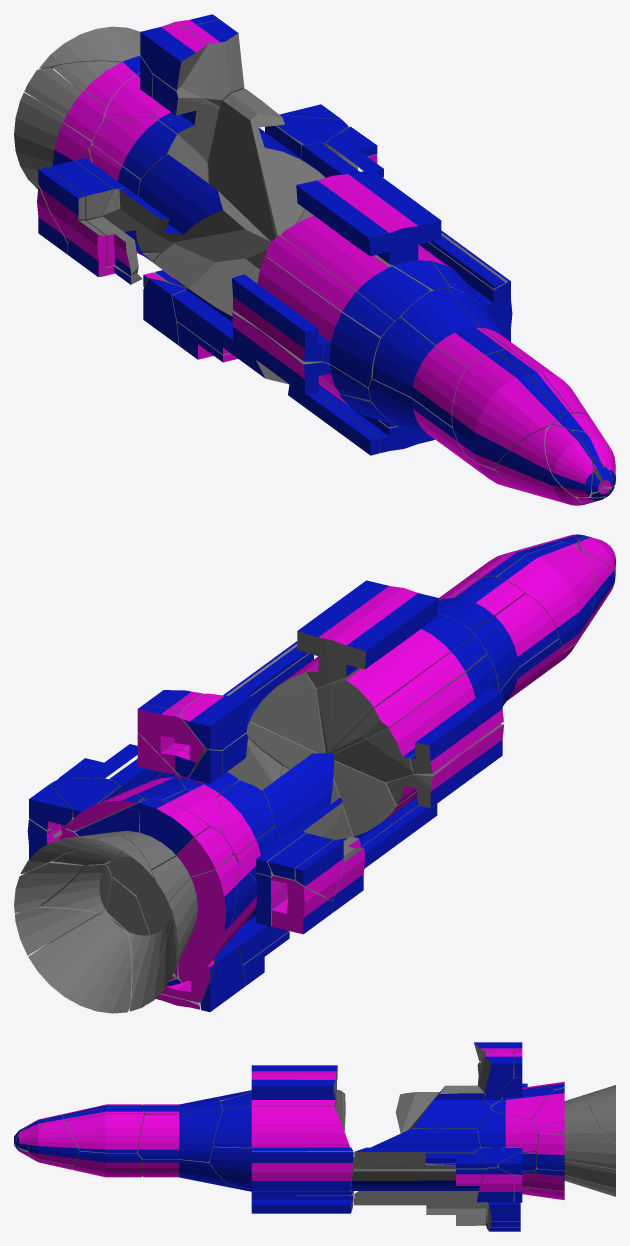
File: Rocket3Broken.fbx
3 renders of one model, top to bottom at view 1: azimuth 30°, elevation 25°; view 2: azimuth 150°, elevation 25°; view 3: azimuth 270°, elevation 25°, orthographic. The views are drawn at different scales.
Parts seen in each view (by area): view 1: Cylinder.002_cell.092, Cylinder.002_cell.008, Cylinder.002_cell.053, Cylinder.002_cell.073, Cylinder.002_cell.013, Cylinder.002_cell.074, Cylinder.002_cell.071, Cylinder.002_cell.042, Cylinder.002_cell.016, Cylinder.002_cell.037, Cylinder.002_cell.033, Cylinder.002_cell.043 (+34 smaller); view 2: Cylinder.002_cell.008, Cylinder.002_cell.012, Cylinder.002_cell.074, Cylinder.002_cell.037, Cylinder.002_cell.042, Cylinder.002_cell.073, Cylinder.002_cell.053, Cylinder.002_cell.071, Cylinder.002_cell.054, Cylinder.002_cell.025, Cylinder.002_cell.019, Cylinder.002_cell.043 (+46 smaller); view 3: Cylinder.002_cell.045, Cylinder.002_cell.025, Cylinder.002_cell.008, Cylinder.002_cell.052, Cylinder.002_cell.049, Cylinder.002_cell.003, Cylinder.002_cell.035, Cylinder.002_cell.092, Cylinder.002_cell.013, Cylinder.002_cell.001, Cylinder.002_cell.063, Cylinder.002_cell.087 (+28 smaller).
Boxes of the visible parts, x1,y1,x2,y2 form: Cylinder.002_cell.092: (208,88,324,241); Cylinder.002_cell.008: (296,170,449,290); Cylinder.002_cell.053: (119,154,270,262); Cylinder.002_cell.073: (452,352,562,468); Cylinder.002_cell.013: (153,243,288,384); Cylinder.002_cell.074: (280,216,434,321); Cylinder.002_cell.071: (372,317,465,426); Cylinder.002_cell.042: (257,256,381,387); Cylinder.002_cell.016: (92,117,208,183); Cylinder.002_cell.037: (14,93,105,189); Cylinder.002_cell.033: (401,288,508,368); Cylinder.002_cell.043: (232,312,370,400); Cylinder.002_cell.008: (297,580,438,688); Cylinder.002_cell.012: (28,910,174,1013); Cylinder.002_cell.074: (316,614,474,753); Cylinder.002_cell.037: (145,854,237,1005); Cylinder.002_cell.042: (333,654,498,782); Cylinder.002_cell.073: (497,542,594,652); Cylinder.002_cell.053: (260,753,342,840); Cylinder.002_cell.071: (471,594,558,690); Cylinder.002_cell.054: (330,636,486,753); Cylinder.002_cell.025: (250,656,325,753); Cylinder.002_cell.019: (410,688,503,773); Cylinder.002_cell.043: (386,724,503,808); Cylinder.002_cell.045: (209,1146,353,1191); Cylinder.002_cell.025: (213,1107,350,1147); Cylinder.002_cell.008: (221,1065,337,1109); Cylinder.002_cell.052: (354,1128,480,1168); Cylinder.002_cell.049: (137,1108,223,1161); Cylinder.002_cell.003: (535,1133,615,1170); Cylinder.002_cell.035: (65,1114,144,1152); Cylinder.002_cell.092: (408,1085,491,1131); Cylinder.002_cell.013: (354,1191,487,1208); Cylinder.002_cell.001: (251,1192,353,1213); Cylinder.002_cell.063: (477,1111,538,1152); Cylinder.002_cell.087: (27,1115,79,1165).
Bounding box in the file's own units: 0.6403 × 0.6312 × 2.
